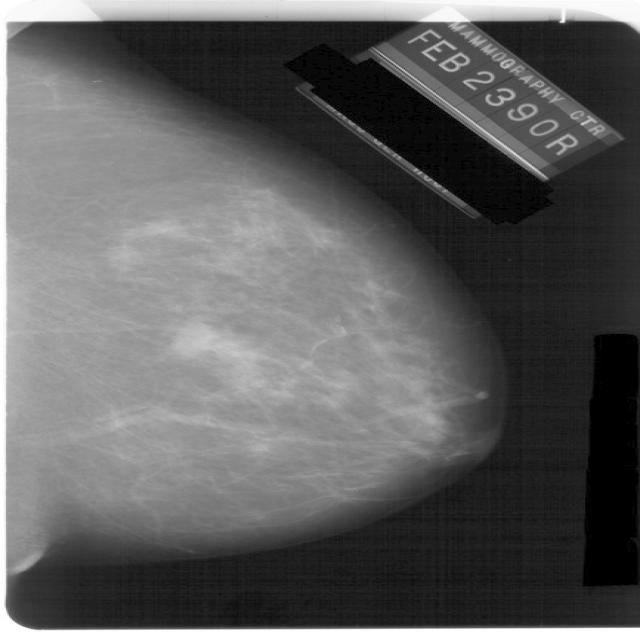tumour: (166, 319, 217, 356)
